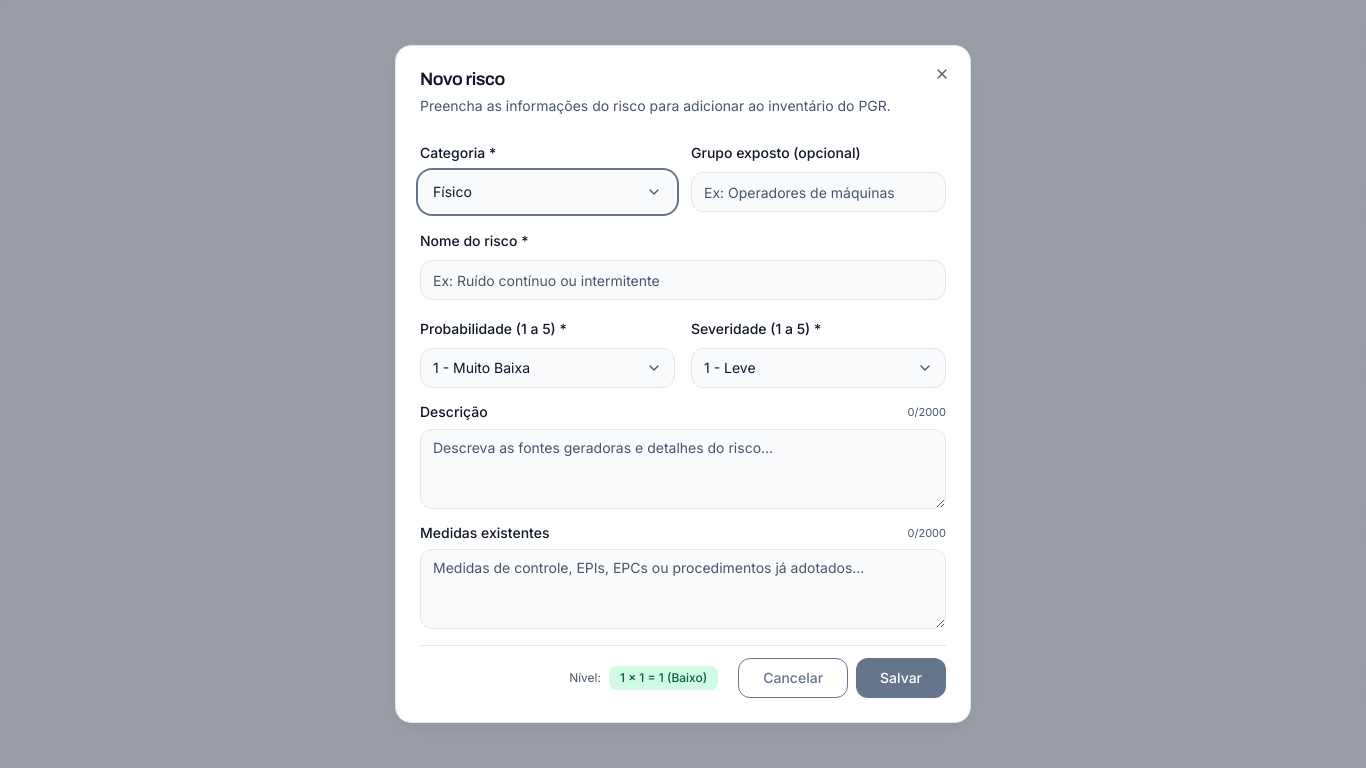
RiscoDialog › bloqueia submit com nome vazio e exibe mensagem de erro
What coordinates should you click on to do the following:
click the button "Salvar"
I would click on:
 (901, 678)
Its box is [856,658,946,698].
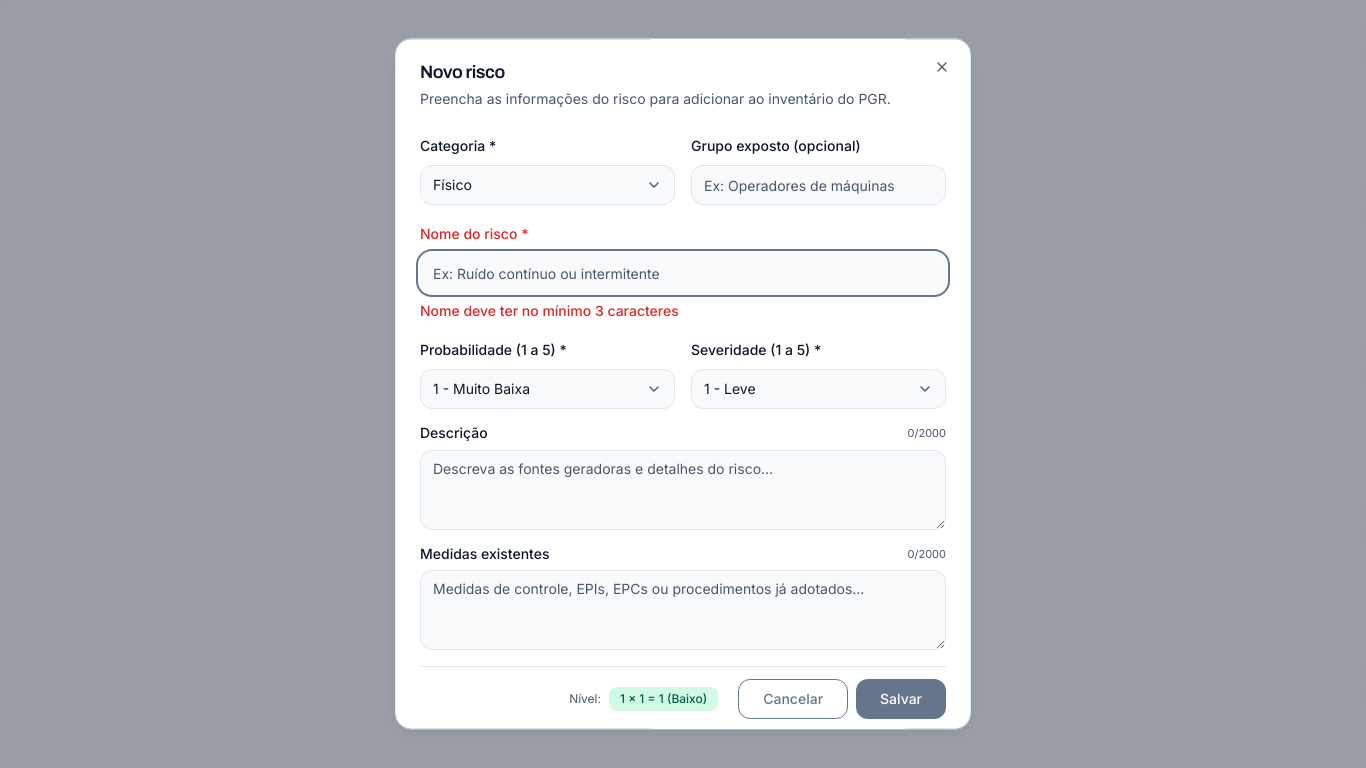
Check: the text "Nome deve ter no mínimo 3 caracteres" is shown, box [420,302,679,319]
